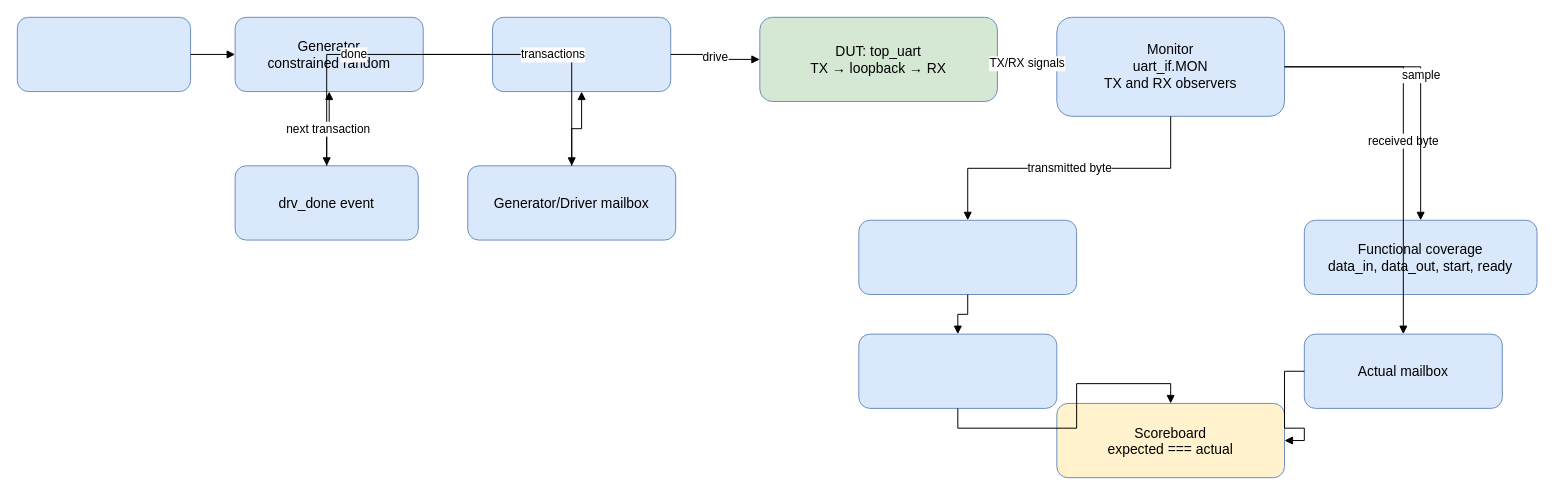
Image size: 1554x495. Some labels were removed from this diagram. The shapes that lost their labels are listed below. From the top down, each one's centre as x and y in pixels, then its label:
At point 103,54: "Transaction rand data_in[7:0]".
At point 581,54: "Driver uart_if.DRV".
At point 967,257: "Reference model expected = input byte".
At point 957,370: "Expected mailbox".
